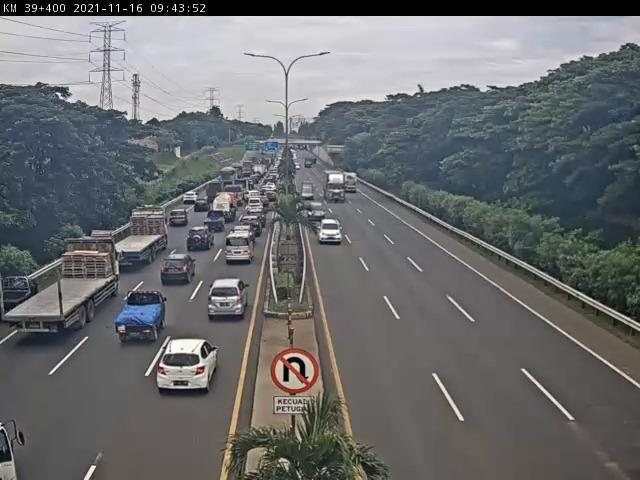car: (149, 334, 223, 397), (115, 288, 168, 347), (208, 279, 251, 323), (159, 258, 197, 289), (224, 236, 254, 266), (184, 230, 214, 257), (319, 218, 344, 245), (203, 211, 227, 236), (231, 227, 255, 252), (241, 216, 263, 236), (309, 201, 327, 223), (168, 212, 188, 230), (249, 209, 269, 225), (191, 200, 208, 216), (247, 200, 265, 214), (178, 197, 194, 210), (249, 193, 265, 202), (303, 183, 312, 195)
truck: (5, 238, 119, 336), (106, 208, 169, 270), (323, 172, 347, 203), (214, 195, 237, 225), (218, 168, 238, 191), (205, 183, 226, 204), (226, 183, 245, 204)
